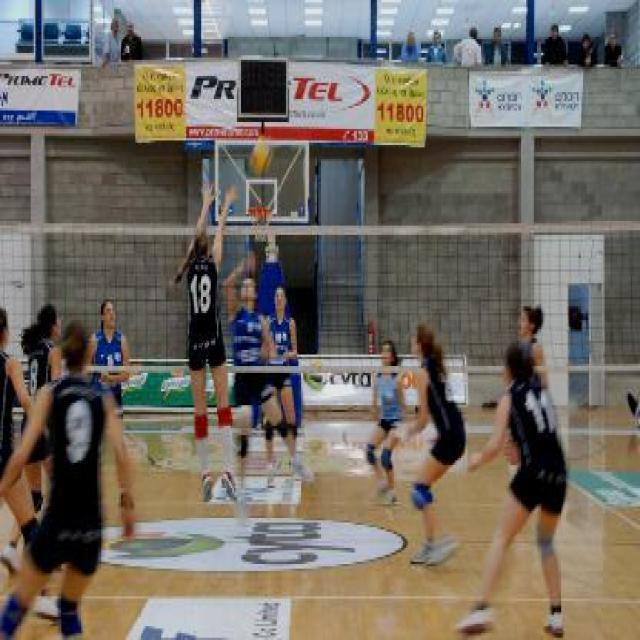volleyball: (248, 140, 272, 175)
